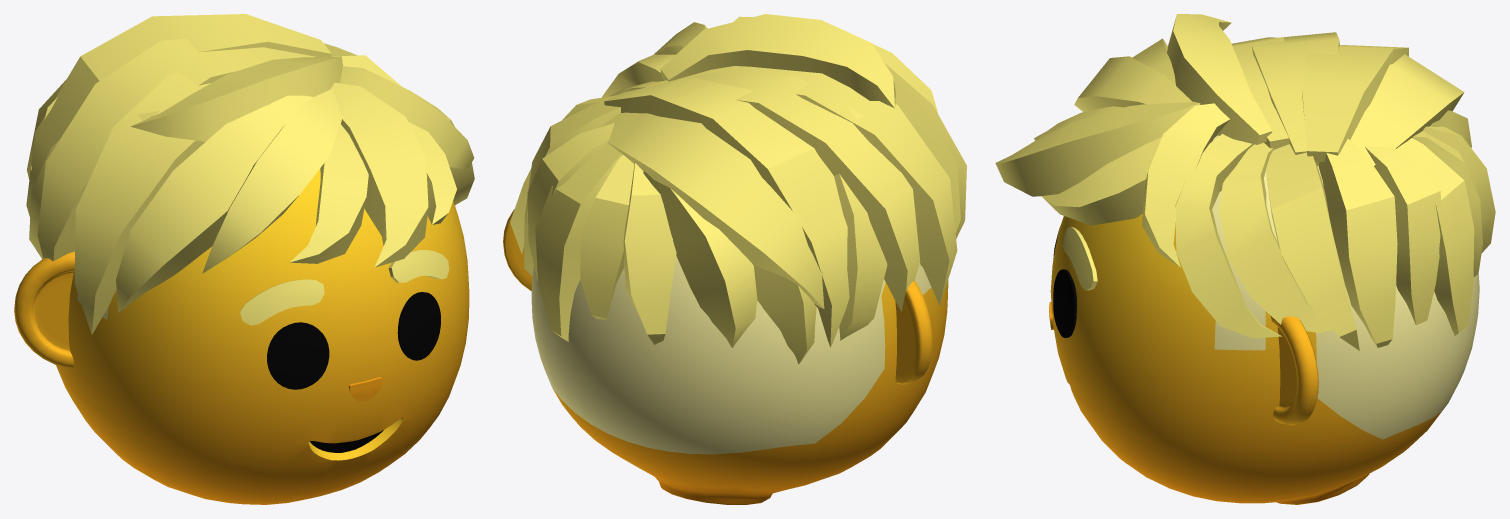
Rendered from person__blond_hair.glb.
3 renders of one model, left to right at view 1: azimuth 30°, elevation 25°; view 2: azimuth 150°, elevation 25°; view 3: azimuth 270°, elevation 25°, orthographic. The views are drawn at different scales.
Parts seen in each view (by area): view 1: Cube.235, Roundcube.007, Circle.304, ears.005, Circle.306, Circle.305; view 2: Cube.235, Roundcube.007, ears.005; view 3: Cube.235, Roundcube.007, ears.005, Circle.304, Circle.306.
Part boxes in pixels (x1,y1,x2,y2): Cube.235: (26,14,474,334); Roundcube.007: (56,168,469,504); Circle.304: (267,292,440,389); ears.005: (14,205,455,368); Circle.306: (240,250,449,325); Circle.305: (349,377,382,401); Cube.235: (510,14,966,364); Roundcube.007: (531,256,948,504); ears.005: (503,209,932,384); Cube.235: (995,14,1495,350); Roundcube.007: (1050,135,1479,504); ears.005: (1271,316,1318,425); Circle.304: (1053,231,1076,337); Circle.306: (1062,226,1097,290).
Bounding box in the file's own units: 1.76 × 1.73 × 1.77.
1 material, 1 textured.
